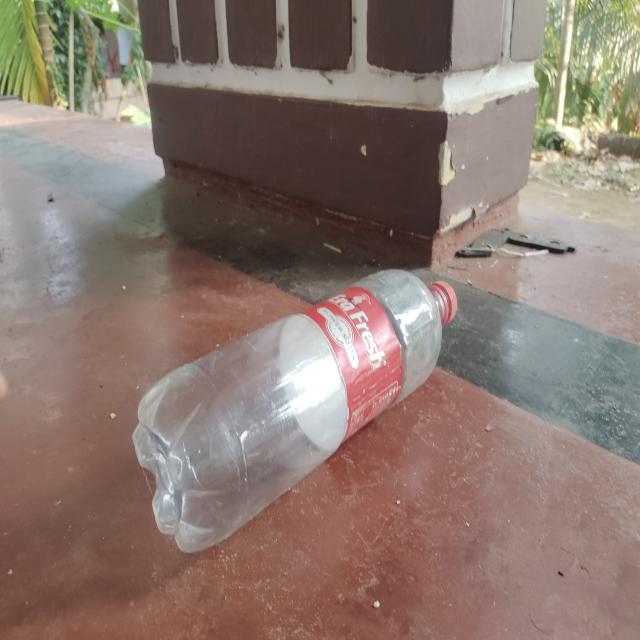plastic: (134, 267, 458, 555)
